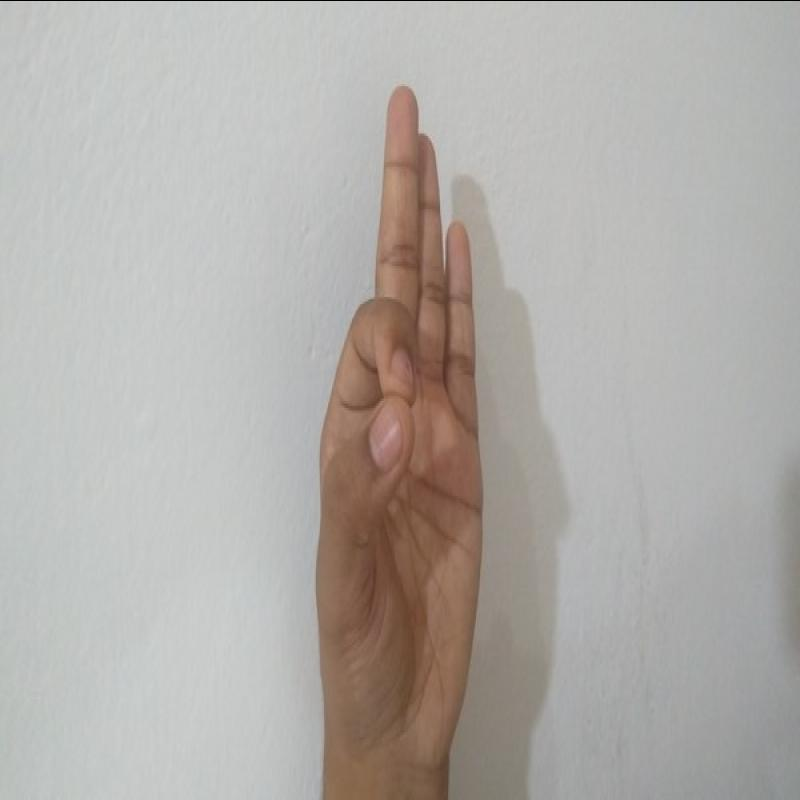Mudraakhyam: (298, 70, 527, 782)
